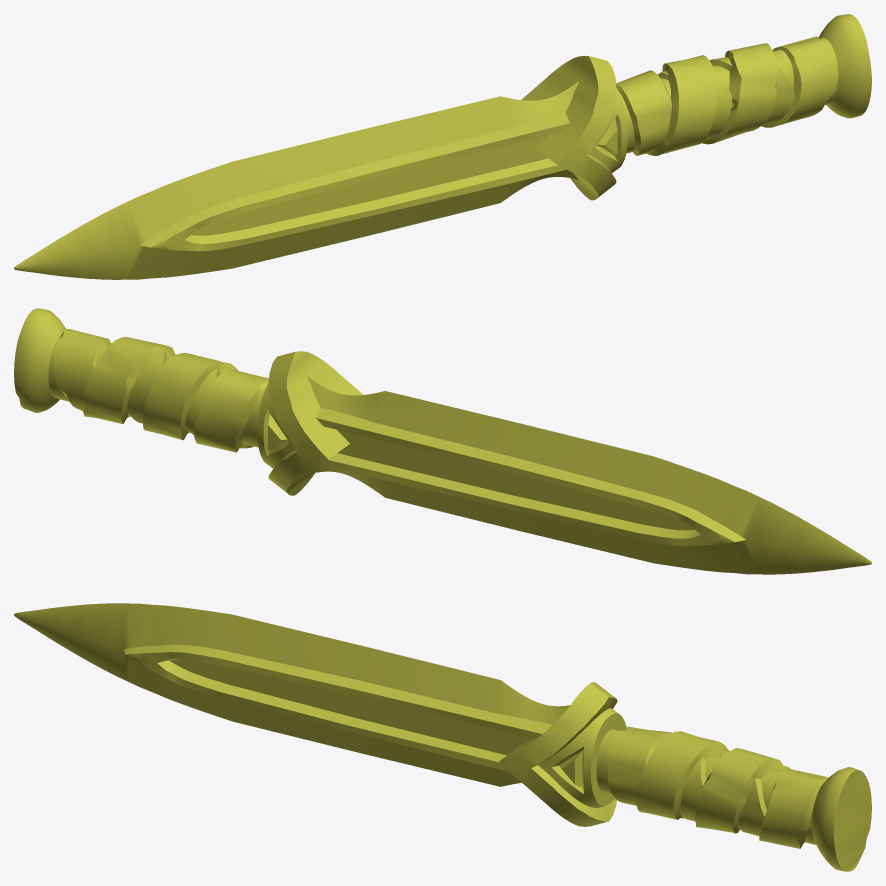
File: SM_Rune_Dagger_4.obj
3 views of the same model, one above another, from view 1: azimuth 30°, elevation 25°; view 2: azimuth 150°, elevation 25°; view 3: azimuth 330°, elevation 25° (orthographic).
Parts seen in each view (by area): view 1: SM_Rune_Dagger_4; view 2: SM_Rune_Dagger_4; view 3: SM_Rune_Dagger_4.
Boxes of the visible parts, x1,y1,x2,y2 form: SM_Rune_Dagger_4: (14, 14, 871, 279); SM_Rune_Dagger_4: (14, 308, 871, 574); SM_Rune_Dagger_4: (14, 603, 871, 871).
Bounding box in the file's own units: 582 × 94.84 × 70.48.
